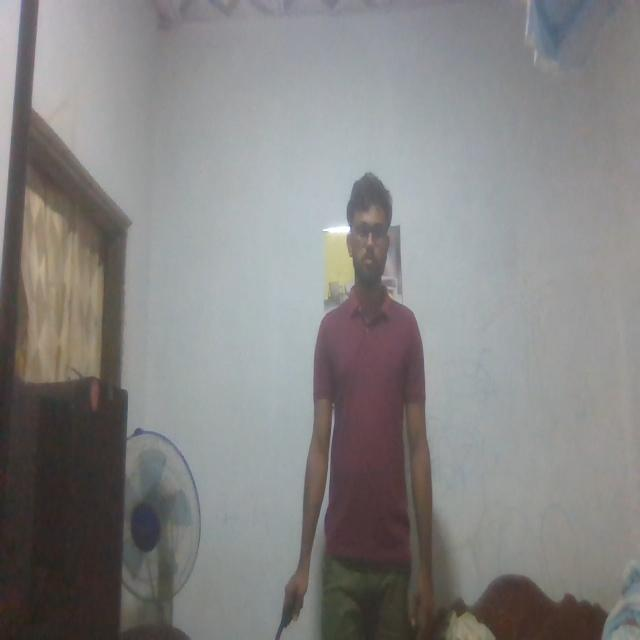Gun_Holder: (276, 574, 312, 640)
Person: (282, 161, 438, 640)
